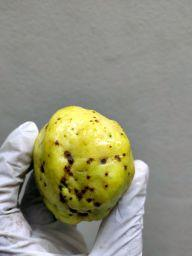guava: (31, 100, 137, 225)
